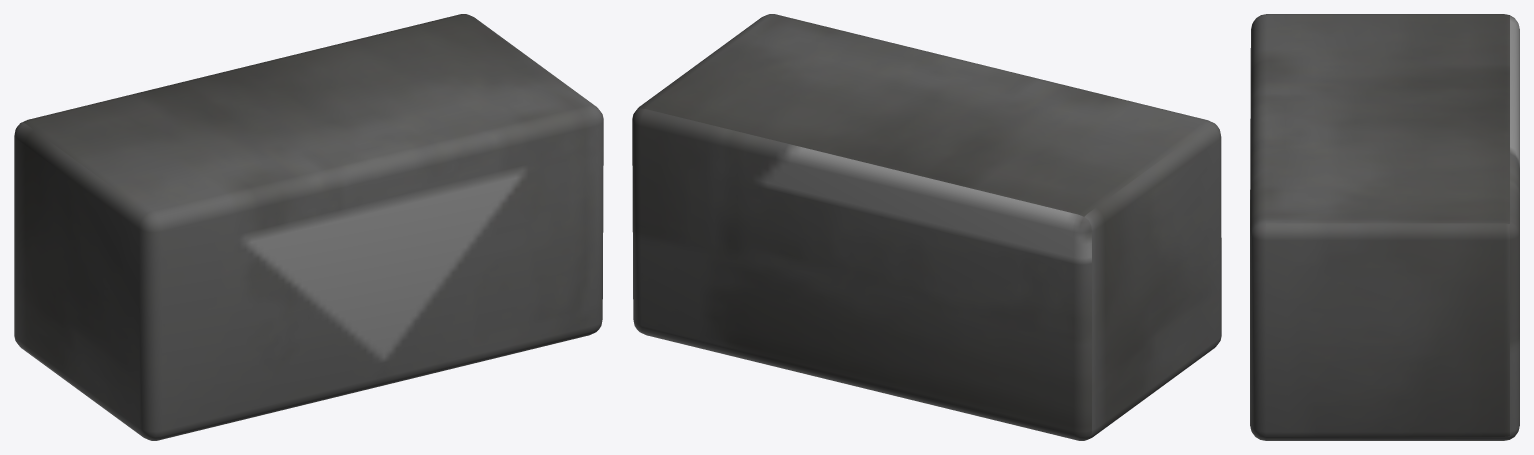
Rendered from Button_12.dae.
The picture shows the model from 3 angles, left to right: view 1: azimuth 30°, elevation 25°; view 2: azimuth 150°, elevation 25°; view 3: azimuth 270°, elevation 25°; orthographic projection. The views are drawn at different scales.
Parts seen in each view (by area): view 1: Button_12_LOD0; view 2: Button_12_LOD0; view 3: Button_12_LOD0.
Part boxes in pixels (x1,y1,x2,y2): Button_12_LOD0: [14, 14, 603, 440]; Button_12_LOD0: [632, 14, 1221, 440]; Button_12_LOD0: [1250, 14, 1519, 440].
Bounding box in the file's own units: 11.01 × 5.2 × 5.77.
